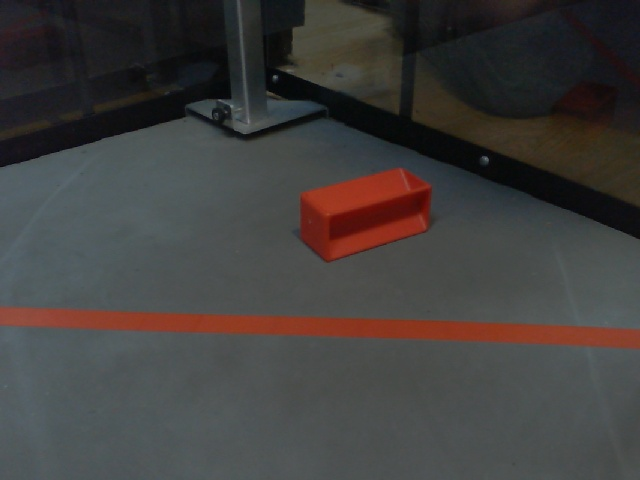RedSample: (298, 166, 434, 265)
